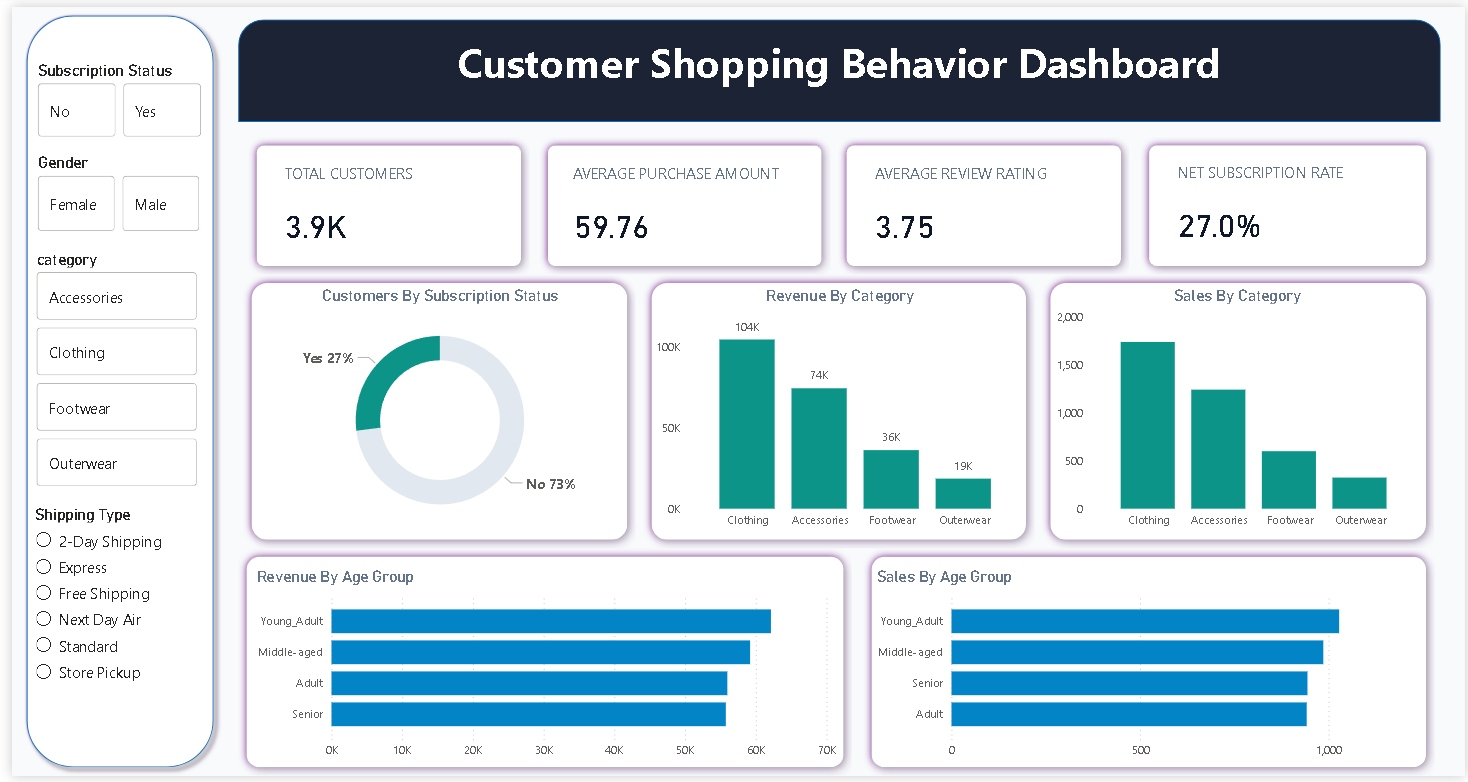

The page's visual inventory and layout, read from the dashboard file:
{"tool":"powerbi","page":{"name":"Customer Behaviour Dashboard","canvas":[1550,820],"ordinal":0},"visuals":[{"type":"shape","box":[241.3,13.3,1282.7,109.3],"z":0},{"type":"textbox","box":[241.3,25.3,1282.7,76],"z":1000},{"type":"shape","box":[246.7,285.3,418.7,292],"z":2000},{"type":"donutChart","title":"Customers By Subscription Status","fields":{"Category":["public customer.subscription_status"],"Y":["CountNonNull(public customer.customer_id)"]},"box":[256,297.3,401.3,268],"z":3000},{"type":"shape","box":[673.3,285.3,417.3,292],"z":4000},{"type":"shape","box":[1098.7,285.3,418.7,292],"z":5000},{"type":"clusteredColumnChart","title":"Revenue By Category","fields":{"Category":["public customer.category"],"Y":["Sum(public customer.purchase_amount)"]},"box":[684,297.3,398.7,268],"z":6000},{"type":"clusteredColumnChart","title":"Sales By Category","fields":{"Category":["public customer.category"],"Y":["CountNonNull(public customer.customer_id)"]},"box":[1110.7,297.3,393.3,268],"z":7000},{"type":"shape","box":[6.7,0,217.3,820],"z":8000},{"type":"advancedSlicerVisual","fields":{"Values":["public customer.subscription_status"]},"box":[22.9,57.1,184.3,87.1],"z":9000},{"type":"advancedSlicerVisual","fields":{"Values":["public customer.gender"]},"box":[22.9,155.7,182.9,88.6],"z":10000},{"type":"advancedSlicerVisual","fields":{"Values":["public customer.category"]},"box":[21.3,258.7,181.3,258.7],"z":11000},{"type":"listSlicer","fields":{"Values":["public customer.shipping_type"]},"box":[20,530.7,182.7,256],"z":12000},{"type":"clusteredBarChart","fields":{"Y":["Sum(public customer.previous_purchases)"],"Category":["public customer.age_group"]},"box":[251.4,597.1,630,212.9],"z":13000},{"type":"shape","box":[241.3,577.3,654.7,242.7],"z":14000},{"type":"shape","box":[908,577.3,609.3,242.7],"z":15000},{"type":"clusteredBarChart","title":"Revenue By Age Group","fields":{"Category":["public customer.age_group"],"Y":["Sum(public customer.purchase_amount)"]},"box":[256,597.3,628,213.3],"z":16000},{"type":"clusteredBarChart","title":"Sales By Age Group","fields":{"Category":["public customer.age_group"],"Y":["CountNonNull(public customer.customer_id)"]},"box":[917.3,597.3,586.7,213.3],"z":17000},{"type":"shape","box":[252,138.7,300,146.7],"z":18000},{"type":"shape","box":[563.1,138.7,310,146.7],"z":19000},{"type":"shape","box":[881.3,138.7,310.7,146.7],"z":20000},{"type":"shape","box":[1204,138.7,313.3,146.7],"z":21000},{"type":"cardVisual","fields":{"Data":["public customer.Number of customers"]},"box":[262.7,146.7,280,125.3],"z":22000},{"type":"cardVisual","fields":{"Data":["public customer.Average Purchase Amount"]},"box":[569.3,145.3,293.3,126.7],"z":23000},{"type":"cardVisual","fields":{"Data":["public customer.Net Subscription Rate"]},"box":[1214.7,146.7,269.3,122.7],"z":24000},{"type":"cardVisual","fields":{"Data":["public customer.Average Review Rating"]},"box":[892,148,290.7,121.3],"z":25000}]}

Visuals, with their boxes in screenshot pixels (x1, y1, x2, y2), scaled from the page's 1550x820 canvas onto the 1468x782 screenshot:
shape: [229,13,1443,117]
textbox: [229,24,1443,97]
shape: [234,272,630,551]
"Customers By Subscription Status" donutChart: [242,284,623,539]
shape: [638,272,1033,551]
shape: [1041,272,1437,551]
"Revenue By Category" clusteredColumnChart: [648,284,1025,539]
"Sales By Category" clusteredColumnChart: [1052,284,1424,539]
shape: [6,0,212,781]
advancedSlicerVisual - public customer.subscription_status: [22,54,196,138]
advancedSlicerVisual - public customer.gender: [22,148,195,233]
advancedSlicerVisual - public customer.category: [20,247,192,493]
listSlicer - public customer.shipping_type: [19,506,192,750]
clusteredBarChart - Sum(public customer.previous_purchases) x public customer.age_group: [238,569,835,772]
shape: [229,551,849,781]
shape: [860,551,1437,781]
"Revenue By Age Group" clusteredBarChart: [242,570,837,773]
"Sales By Age Group" clusteredBarChart: [869,570,1424,773]
shape: [239,132,523,272]
shape: [533,132,827,272]
shape: [835,132,1129,272]
shape: [1140,132,1437,272]
cardVisual - public customer.Number of customers: [249,140,514,259]
cardVisual - public customer.Average Purchase Amount: [539,139,817,259]
cardVisual - public customer.Net Subscription Rate: [1150,140,1405,257]
cardVisual - public customer.Average Review Rating: [845,141,1120,257]
